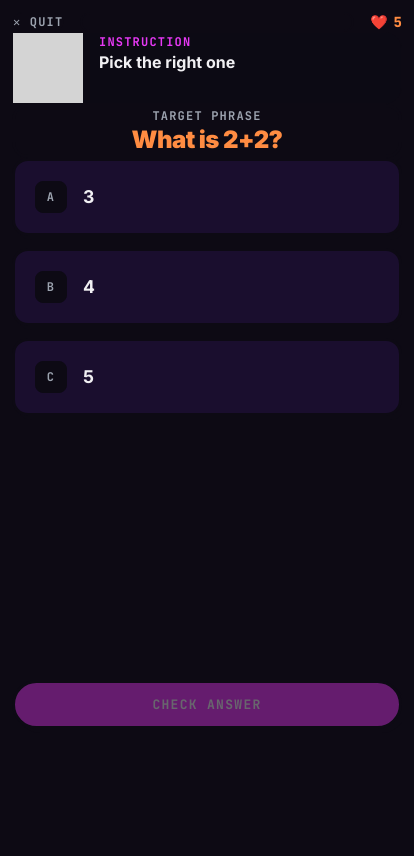
Test case: LessonRunner — multiple choice › enables CHECK ANSWER after selecting an option
Click the text "4".
click(89, 286)  # box [83,276,95,297]
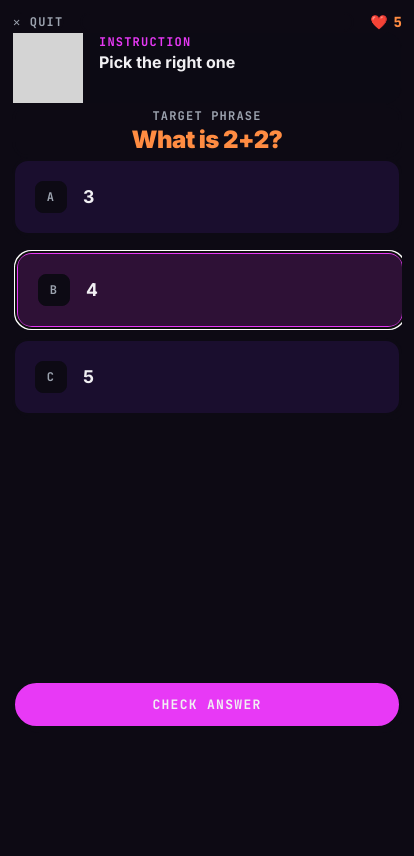
Now the button "CHECK ANSWER" is enabled, box [12,680,402,729]
